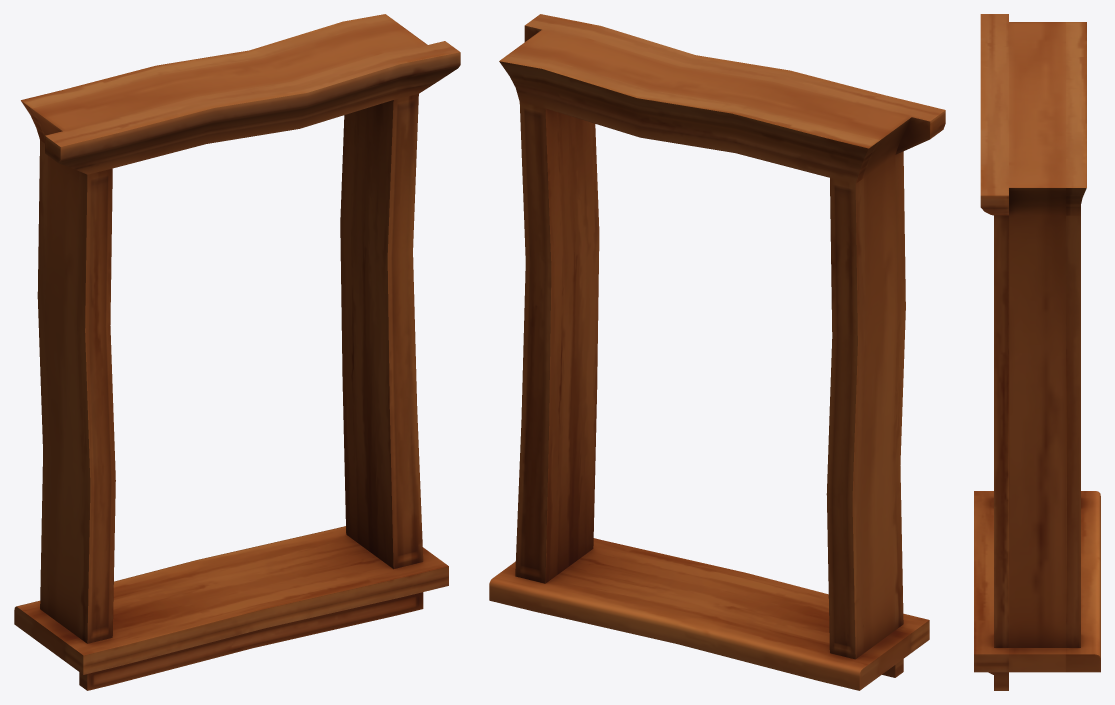
Rendered from PropWindow01TypeA_1_2.FBX.
The picture shows the model from 3 angles, left to right: view 1: azimuth 30°, elevation 25°; view 2: azimuth 150°, elevation 25°; view 3: azimuth 270°, elevation 25°; orthographic projection. The views are drawn at different scales.
Visible parts, largest first — view 1: PropWindow01TypeA_1_2; view 2: PropWindow01TypeA_1_2; view 3: PropWindow01TypeA_1_2.
Boxes of the visible parts, <box> form: PropWindow01TypeA_1_2: <box>14,14,460,690</box>; PropWindow01TypeA_1_2: <box>489,14,945,690</box>; PropWindow01TypeA_1_2: <box>974,14,1100,690</box>.
Size of what is drawn, in the model's own units: 1.49 by 1.99 by 0.4449.
